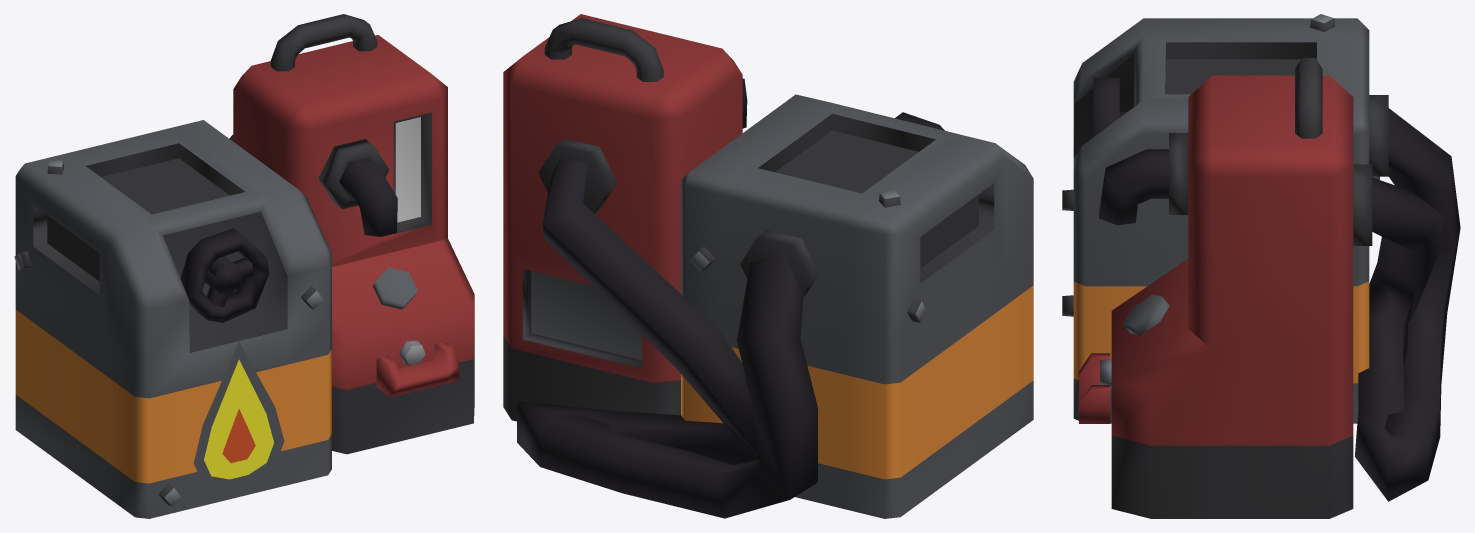
File: FuelTank.glb
3 views of the same model, side by side, from view 1: azimuth 30°, elevation 25°; view 2: azimuth 150°, elevation 25°; view 3: azimuth 270°, elevation 25° (orthographic). The views are drawn at different scales.
Parts seen in each view (by area): view 1: FuelTank; view 2: FuelTank; view 3: FuelTank.
Boxes of the visible parts, <box> form: FuelTank: <box>14,14,474,518</box>; FuelTank: <box>503,14,1033,518</box>; FuelTank: <box>1062,14,1460,518</box>.
Bounding box in the file's own units: 0.792 × 0.7241 × 0.6382.
2 materials, 1 textured.
